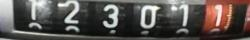digits: (173, 2, 196, 30), (23, 0, 46, 27), (208, 1, 228, 32), (57, 0, 80, 23), (139, 5, 160, 28), (102, 4, 118, 28)
